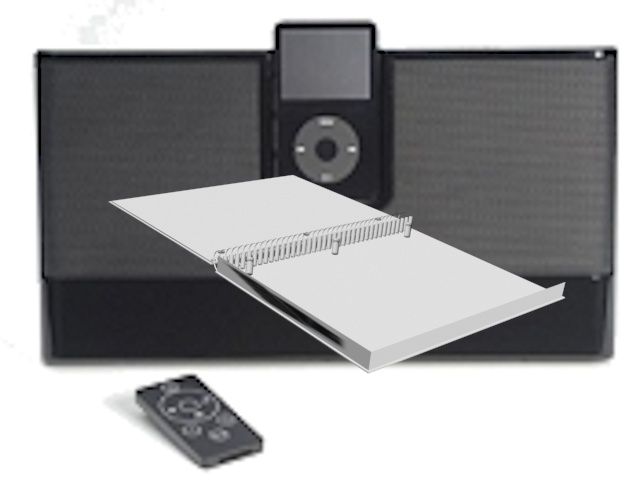paper_notebook: (105, 169, 568, 376)
